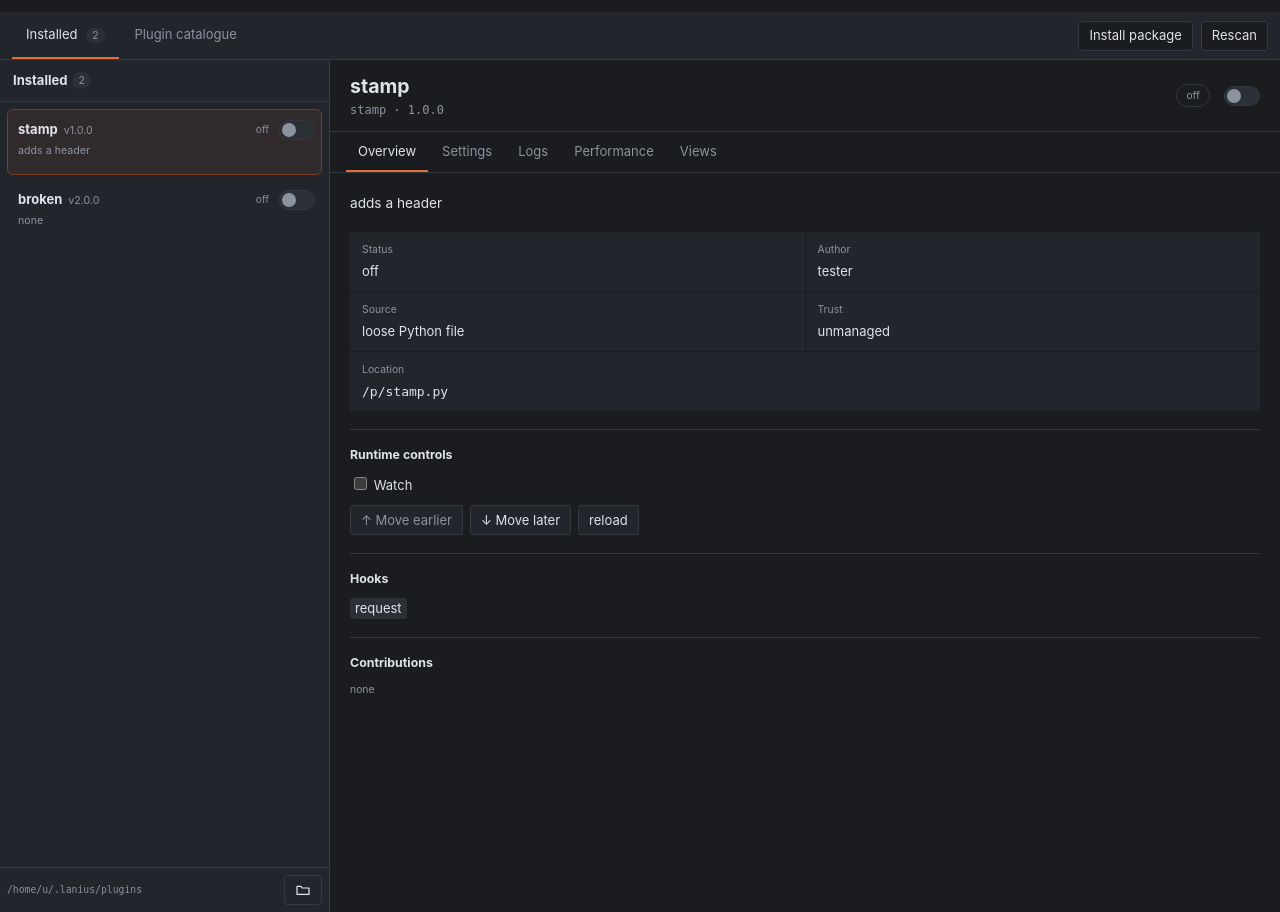
Scenario: PluginsTab › keeps a failed enable switch off and shows the plugin-specific error
Click the switch named "toggle broken": [295, 200] box [279, 190, 311, 210]
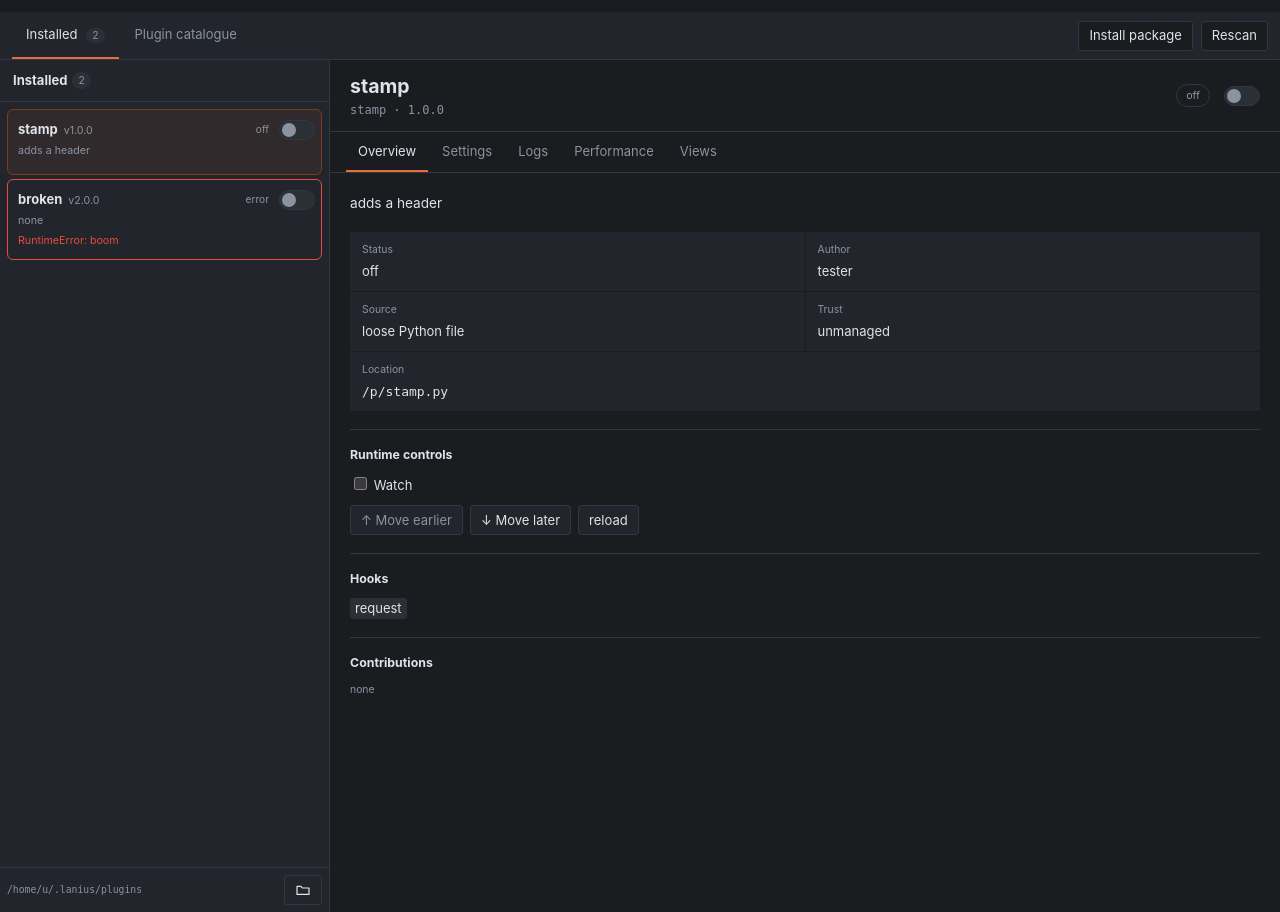
Now the text "RuntimeError: boom" is shown, box [18, 234, 119, 248]
